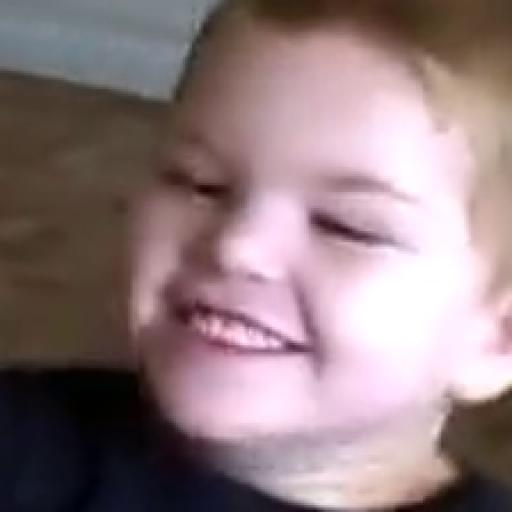Autism: (95, 4, 485, 470)
